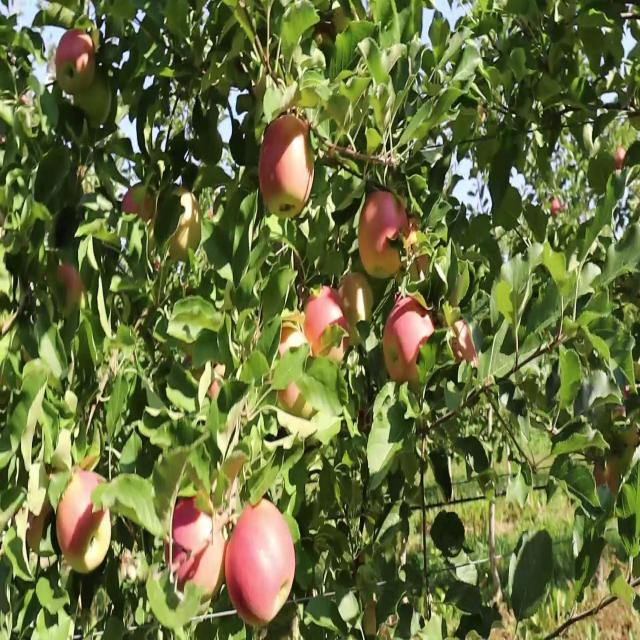apple: (221, 497, 297, 628), (260, 106, 316, 220), (56, 455, 111, 569), (356, 191, 410, 283), (384, 298, 436, 388), (304, 284, 351, 363), (276, 341, 316, 423), (56, 28, 97, 98), (168, 191, 204, 265), (76, 71, 114, 132), (304, 291, 336, 359), (340, 270, 372, 329), (196, 542, 226, 601), (276, 376, 315, 421), (124, 184, 156, 226), (28, 497, 51, 553), (452, 319, 477, 366), (408, 227, 431, 274), (60, 263, 85, 302), (596, 455, 619, 496), (612, 383, 633, 425), (124, 184, 147, 222), (364, 604, 387, 638), (616, 149, 628, 172)
